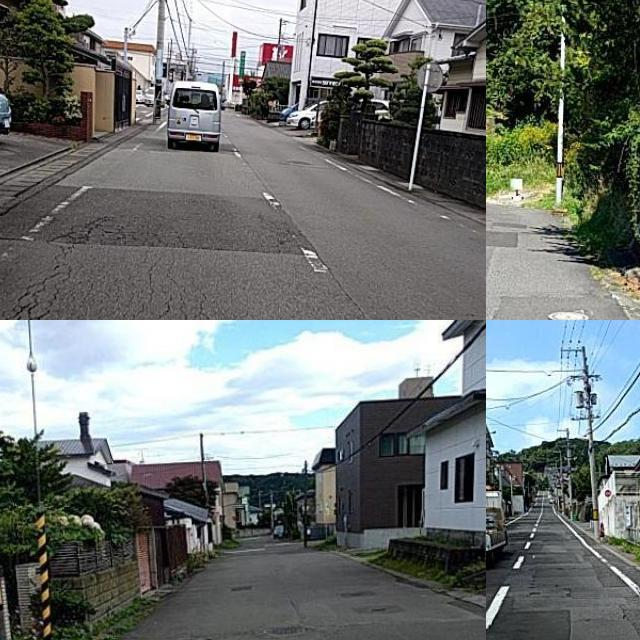Sambungan: (0, 178, 325, 255), (493, 295, 628, 320), (486, 230, 528, 249)
